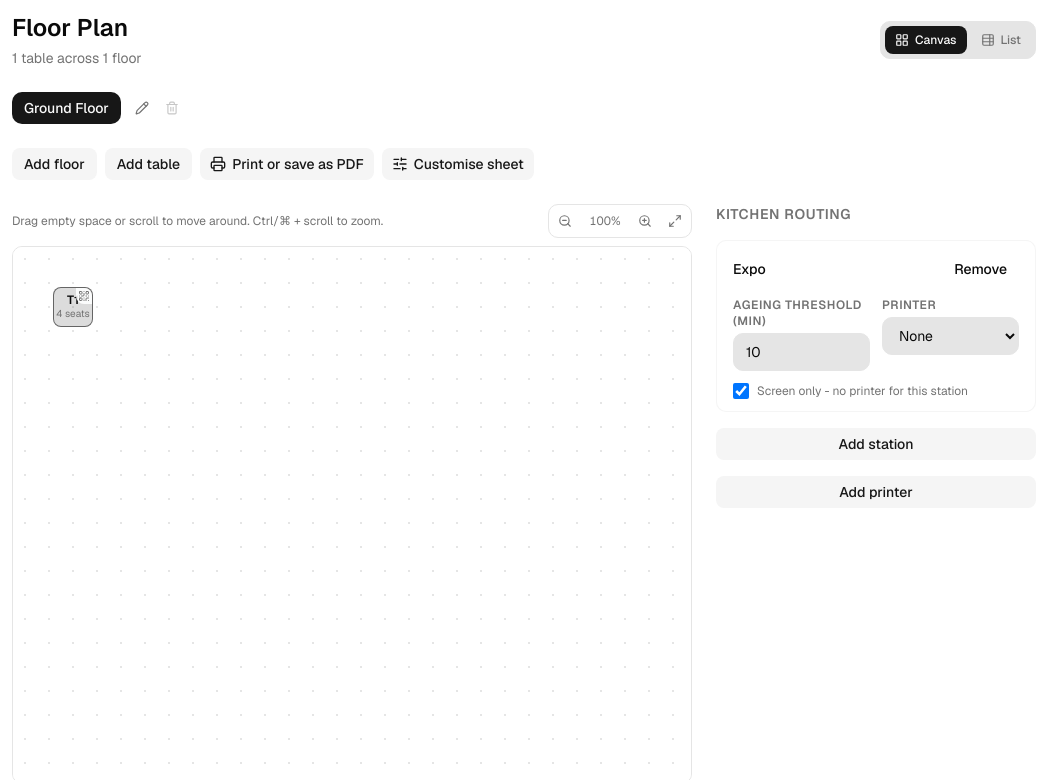
it: FloorPlan › switches to the list view and shows the same table data
This screenshot has width=1048, height=780.
Expected: the button with test id "table-shape-t1" is shown, [53, 287, 93, 327]
Click the tab with test id "floor-plan-view-list": (1001, 40) [970, 26, 1031, 54]
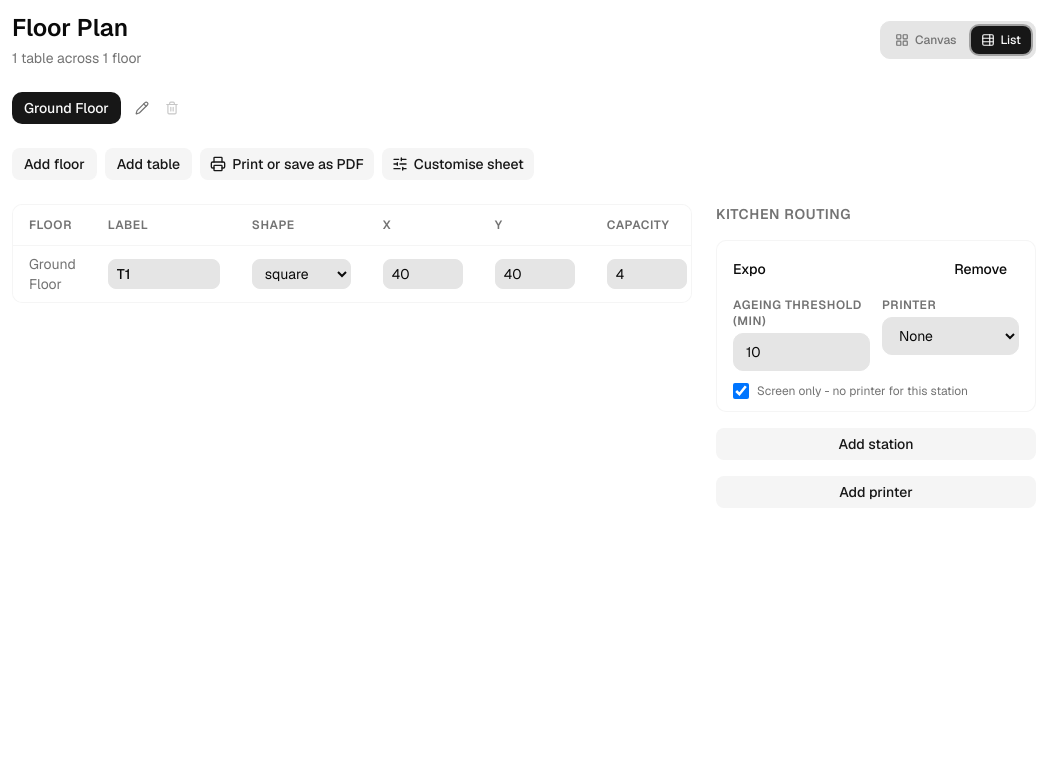
Result: the row with test id "floor-plan-list-row-t1" is shown at [13, 246, 692, 302]
Result: the number field with test id "floor-plan-list-x-t1" holds "40" at [383, 259, 463, 289]
